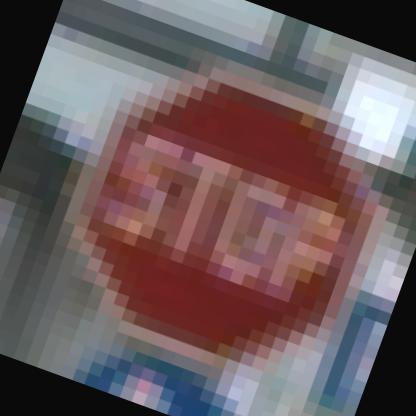stop: (28, 18, 415, 415)
